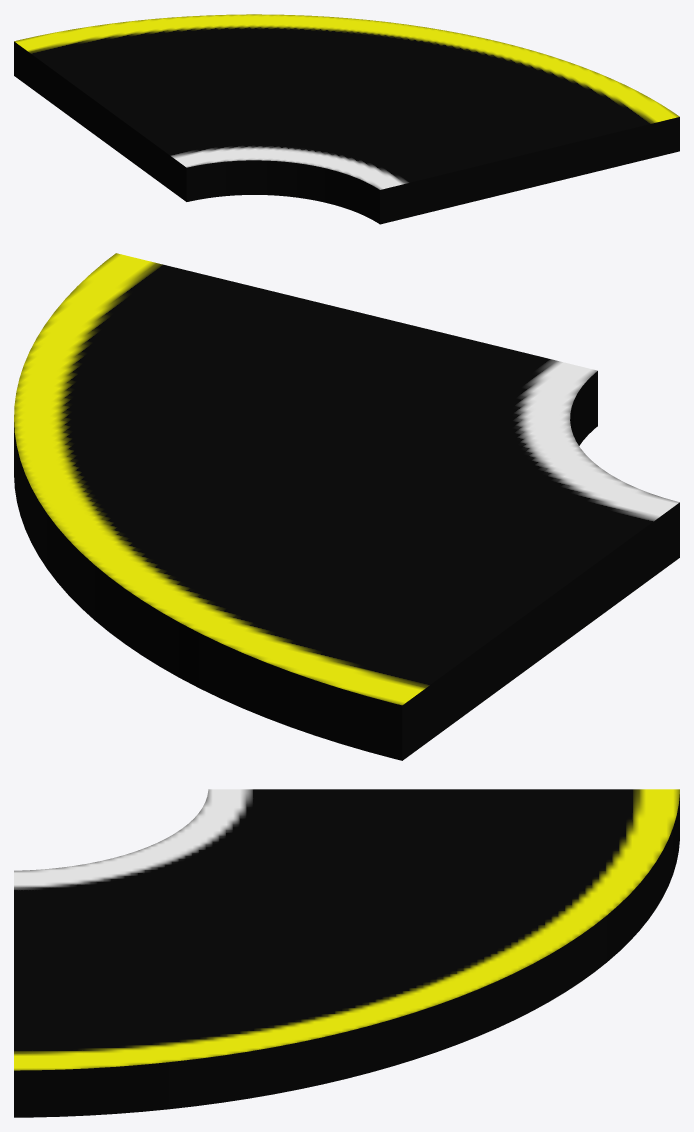
Rendered from Panel_R01_C02__Road_01.dae.
3 views of the same model, one above another, from view 1: azimuth 30°, elevation 25°; view 2: azimuth 150°, elevation 25°; view 3: azimuth 270°, elevation 25° (orthographic). The views are drawn at different scales.
Visible parts, largest first — view 1: Object; view 2: Object; view 3: Object.
Boxes of the visible parts, left/top/right/bottom form: Object: left=14, top=14, right=679, bottom=224; Object: left=14, top=253, right=679, bottom=760; Object: left=14, top=789, right=679, bottom=1117.
Size of the model in its own units: 0.384 by 0.3843 by 0.03.
2 materials, 1 textured.
